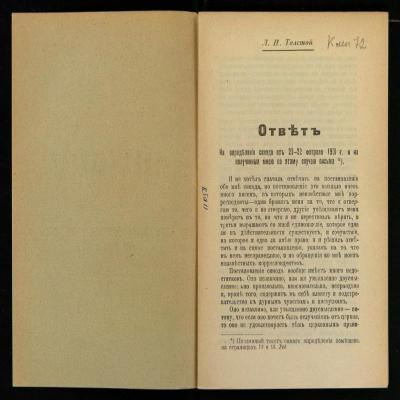rare_books: (12, 6, 400, 400)
